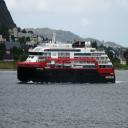cruises: (16, 31, 118, 87)
